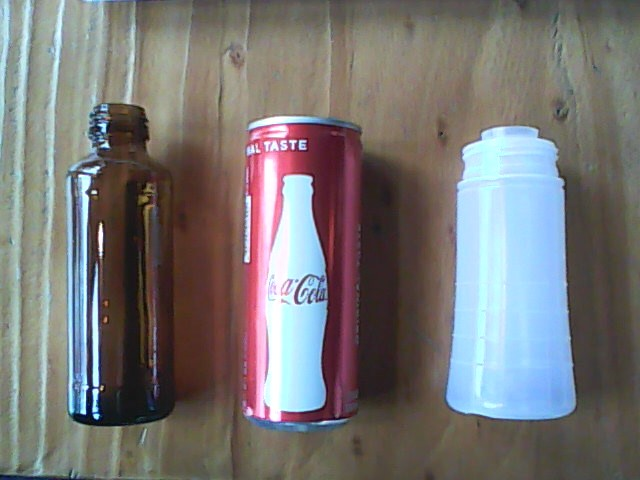Can: (235, 111, 367, 431)
Glass: (64, 101, 176, 432)
Plastic: (440, 123, 584, 424)
